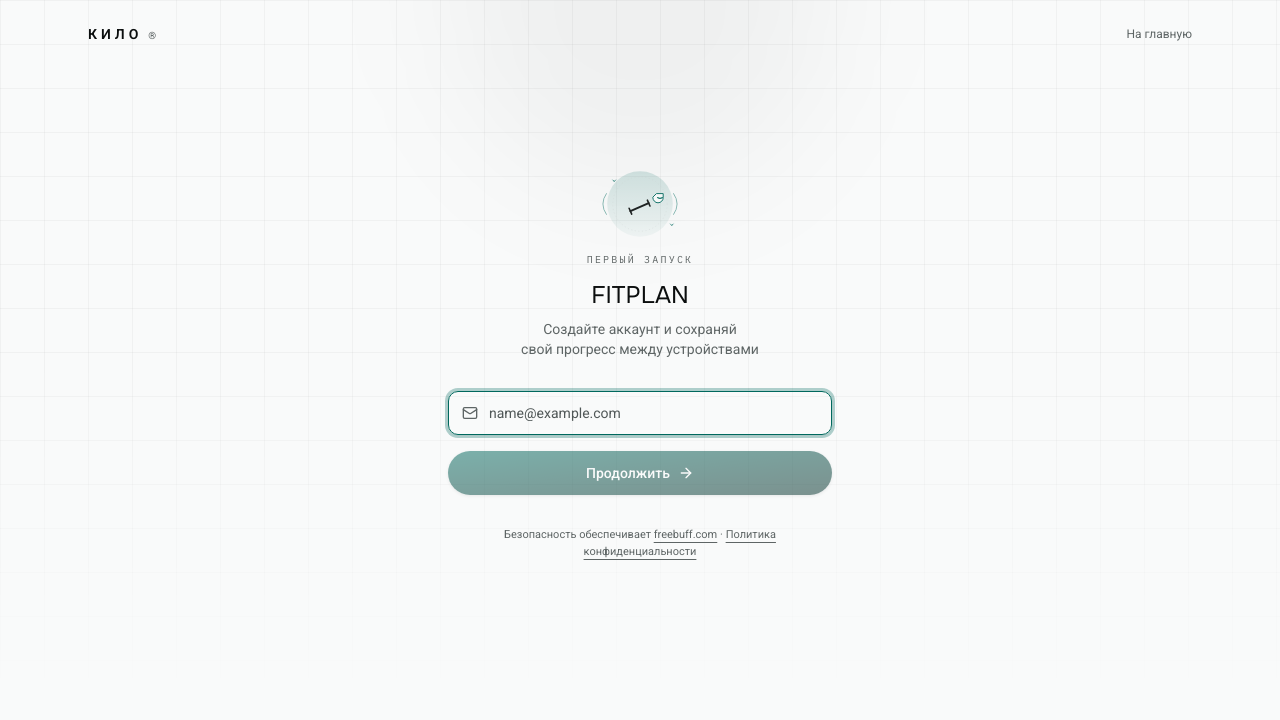
Test case: Auth — Email + Password › Continue shows sign-in step
Type "test@example.com" into the field with placeholder "name@example.com" at (640, 413), box [448, 391, 832, 435]
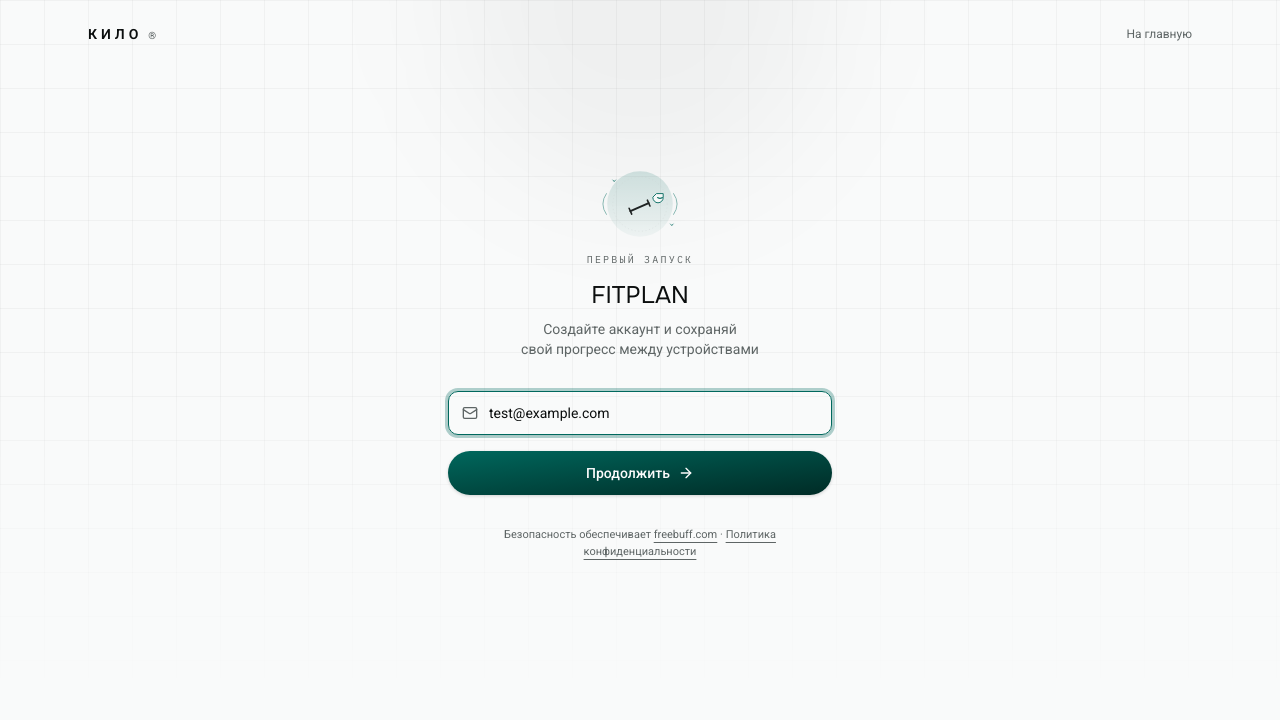
Click the button "Продолжить" at (640, 473), box [448, 451, 832, 495]
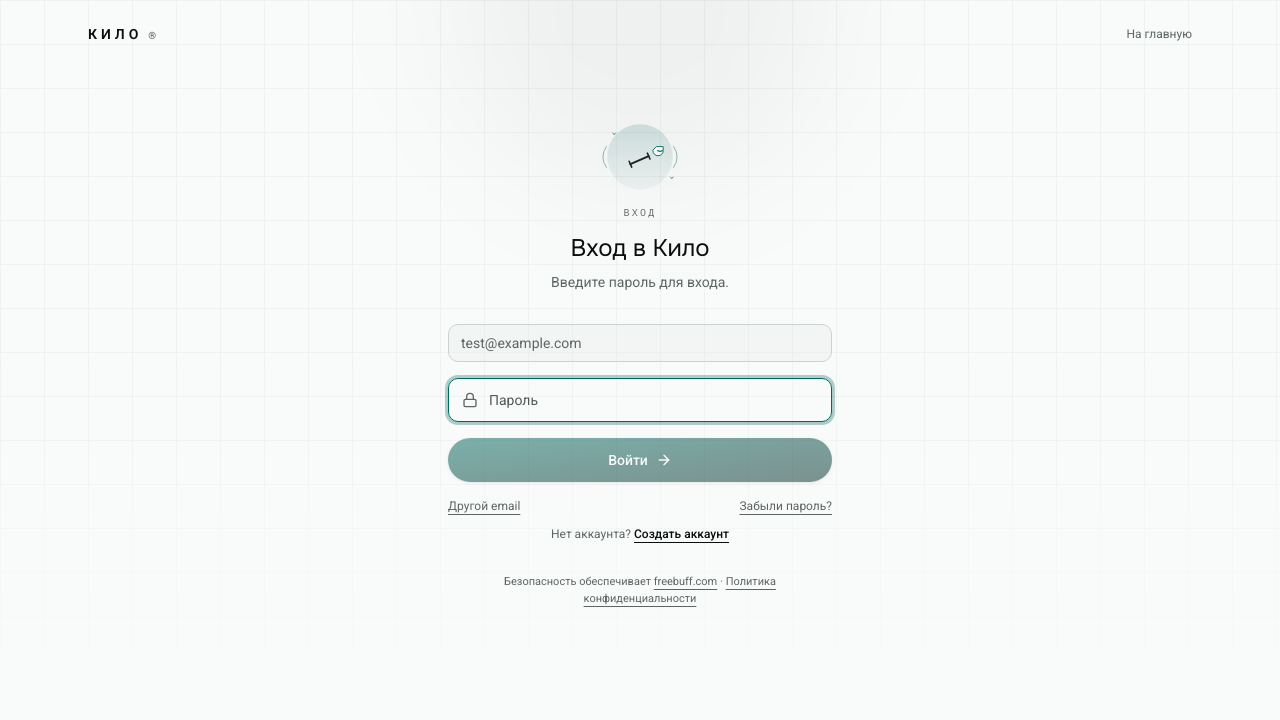
Expected: the heading "Вход в Кило" is shown, [570, 233, 710, 263]
Expected: the password field labelled "Пароль" is shown, [448, 378, 832, 422]
